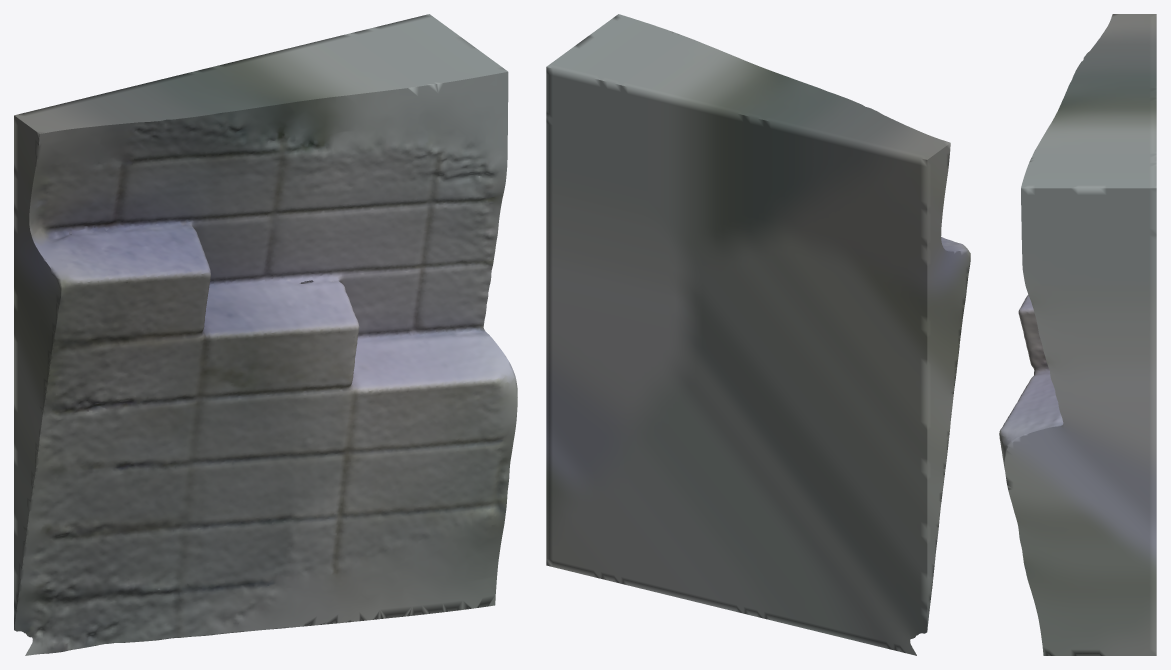
Rendered from preview.glb.
3 views of the same model, side by side, from view 1: azimuth 30°, elevation 25°; view 2: azimuth 150°, elevation 25°; view 3: azimuth 270°, elevation 25° (orthographic). The views are drawn at different scales.
Visible parts, largest first — view 1: Object_2; view 2: Object_2; view 3: Object_2.
Boxes of the visible parts, box(x1,y1,x2,y2) form: Object_2: box(14, 14, 517, 655); Object_2: box(546, 14, 970, 655); Object_2: box(999, 14, 1156, 655).
Bounding box in the file's own units: 1184 × 1480 × 451.
